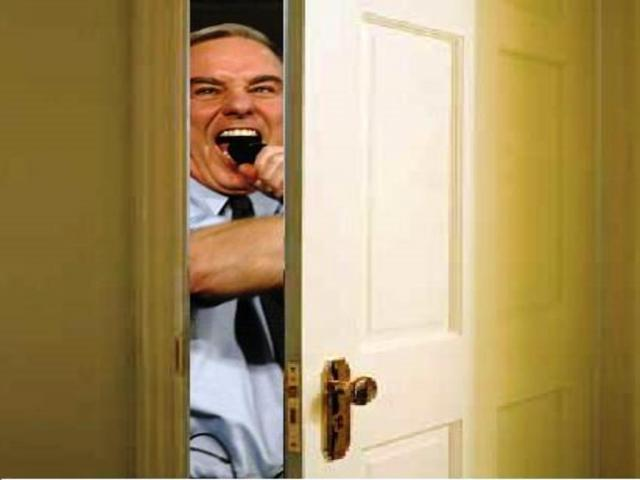Door-handle: (321, 356, 377, 462)
